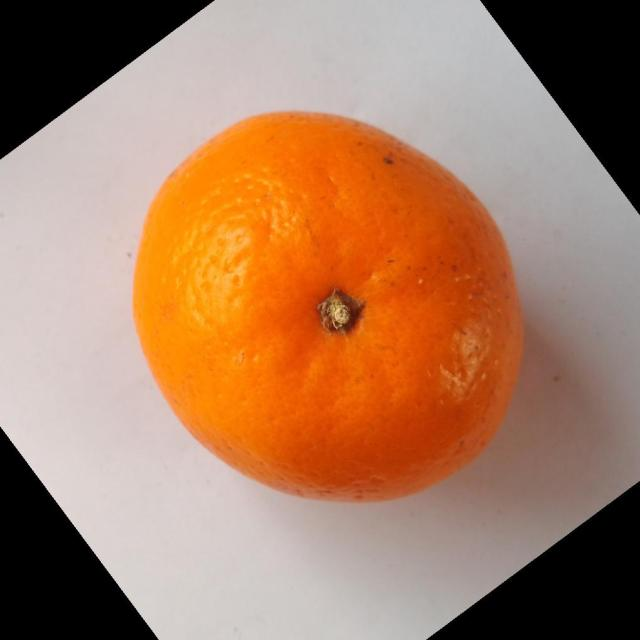fresh orange: (131, 108, 525, 504)
